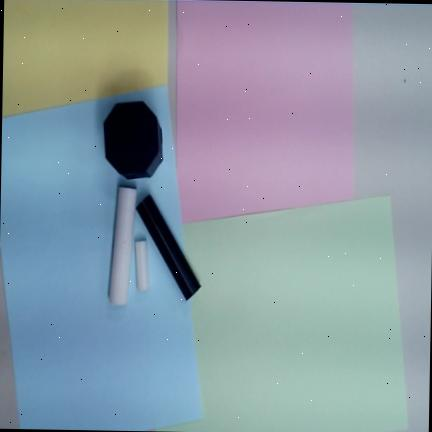Cilindro: (134, 193, 201, 301), (109, 186, 136, 305), (134, 240, 149, 291)
Prisma_hexagonal: (103, 101, 162, 179)
